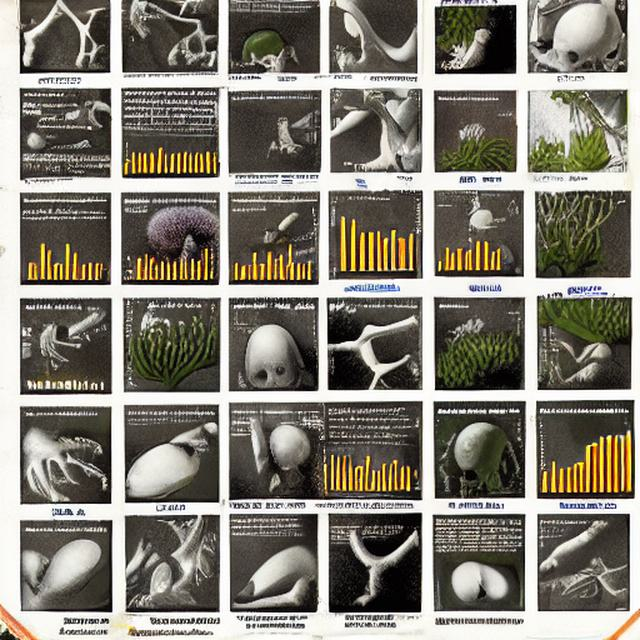Graph: (312, 440, 413, 500)
